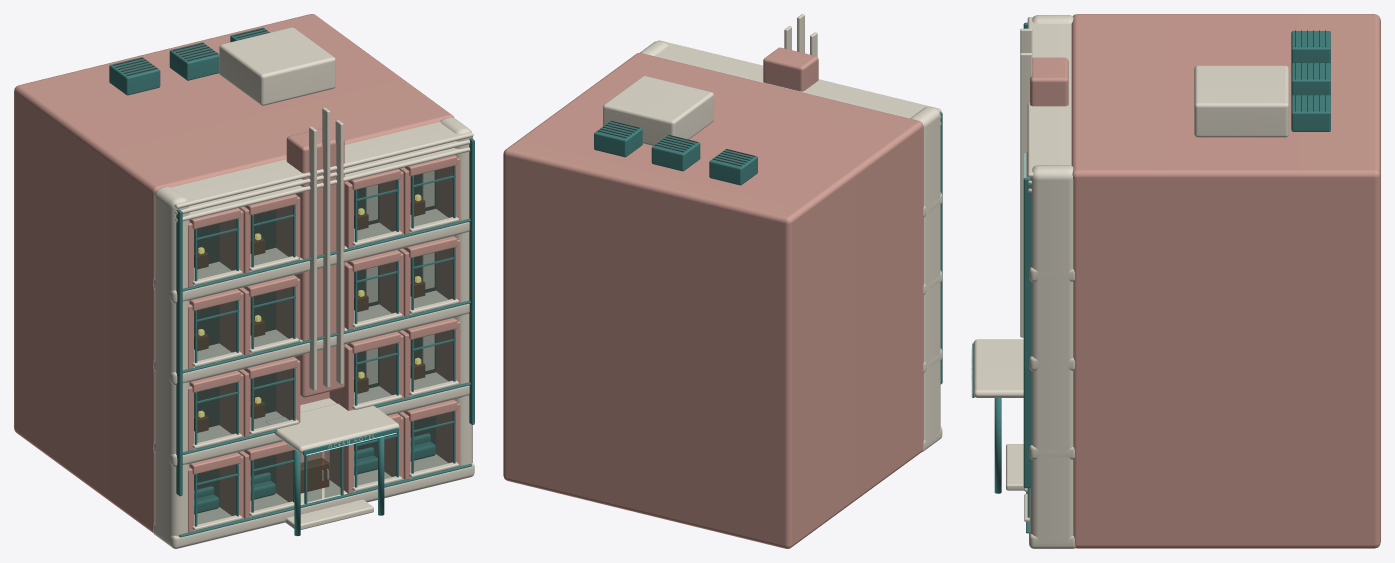
The model's file is ocean-hotel.glb.
3 views of the same model, side by side, from view 1: azimuth 30°, elevation 25°; view 2: azimuth 150°, elevation 25°; view 3: azimuth 270°, elevation 25° (orthographic). The views are drawn at different scales.
Visible parts, largest first — view 1: OriginalOceanHotel; view 2: OriginalOceanHotel; view 3: OriginalOceanHotel.
Part boxes in pixels (<box>): OriginalOceanHotel: <box>14,14,474,548</box>; OriginalOceanHotel: <box>503,14,942,548</box>; OriginalOceanHotel: <box>971,14,1380,548</box>.
Bounding box in the file's own units: 12 × 15.4 × 12.95.
